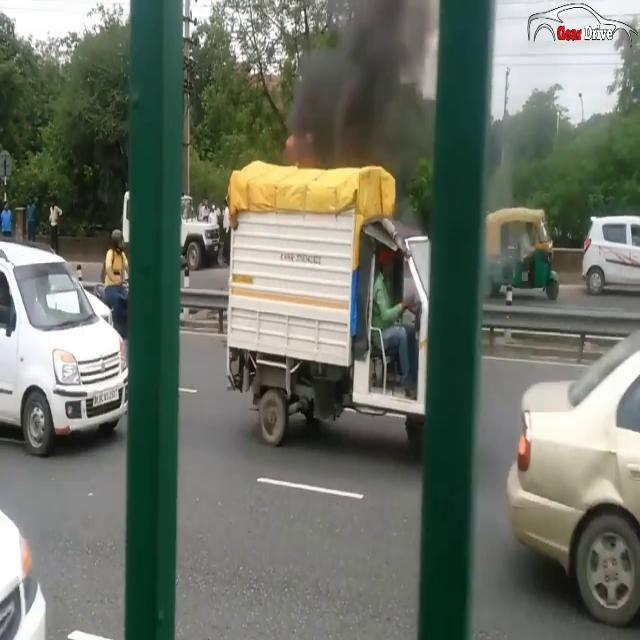Smoke: (284, 0, 446, 164)
